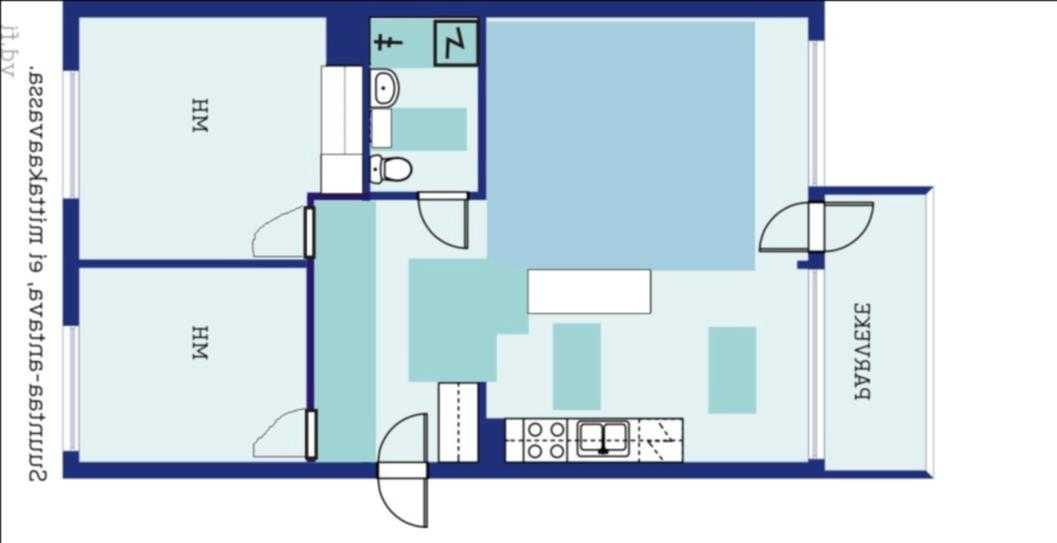door: (245, 406, 318, 462), (373, 408, 431, 478), (806, 198, 876, 255), (248, 201, 314, 260), (755, 198, 824, 254), (414, 190, 472, 253), (373, 462, 428, 528)
window: (803, 262, 828, 464), (803, 30, 826, 193), (57, 318, 82, 455), (58, 62, 82, 204)
